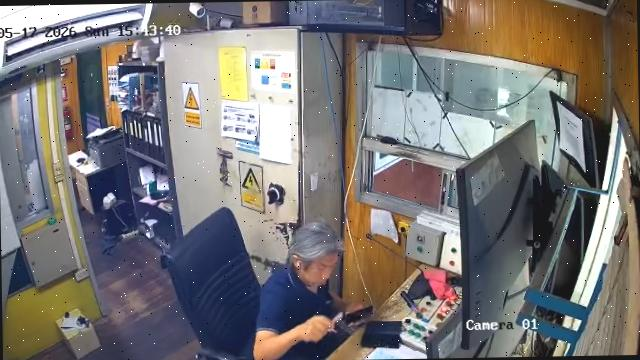Head: (294, 223, 344, 287)
People: (254, 221, 345, 360)
Phone: (335, 302, 373, 330), (362, 331, 401, 351)
